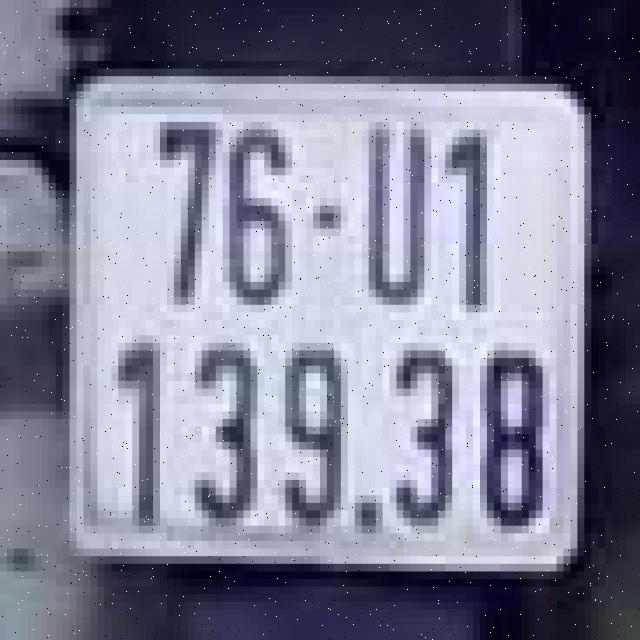1: (104, 328, 174, 533), (442, 126, 504, 324)
3: (191, 339, 268, 530), (386, 335, 456, 541)
6: (223, 107, 313, 335)
7: (146, 95, 216, 309)
8: (470, 343, 553, 533)
9: (275, 339, 351, 537)
U: (358, 107, 435, 320)
